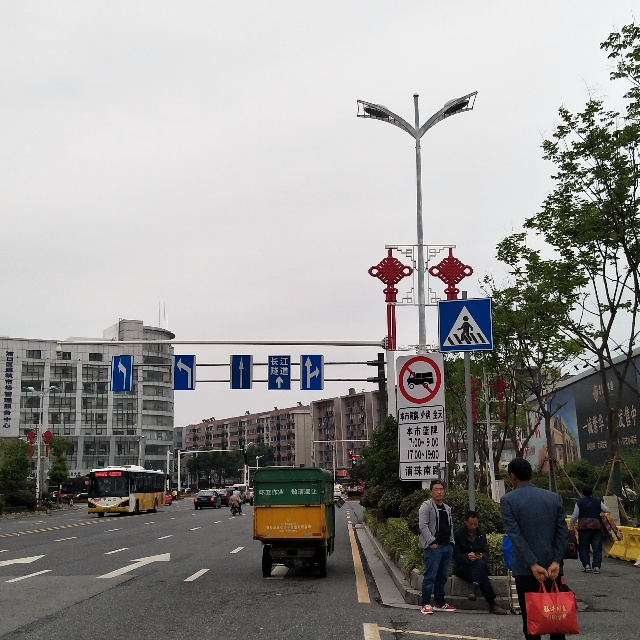left: (171, 355, 196, 390), (110, 355, 132, 391)
straight: (230, 355, 252, 389)
